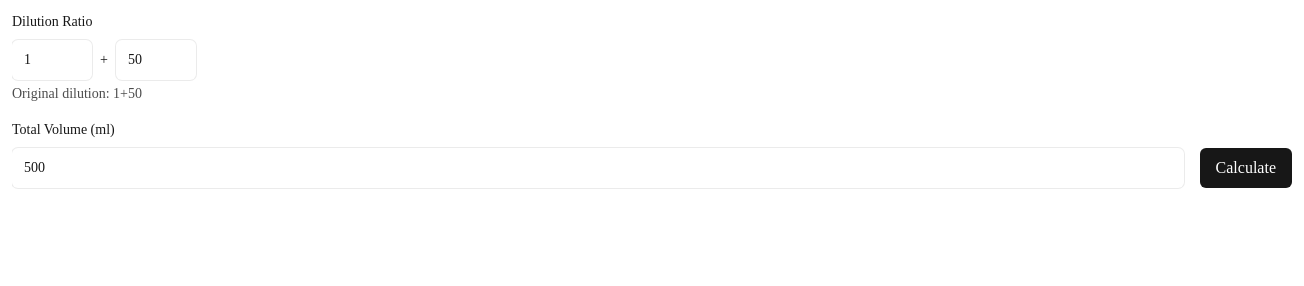
Test: VolumeMixer › clears result on empty ratio input (NaN guard)
Click the button "Calculate": (1246, 168) [1200, 148, 1292, 188]
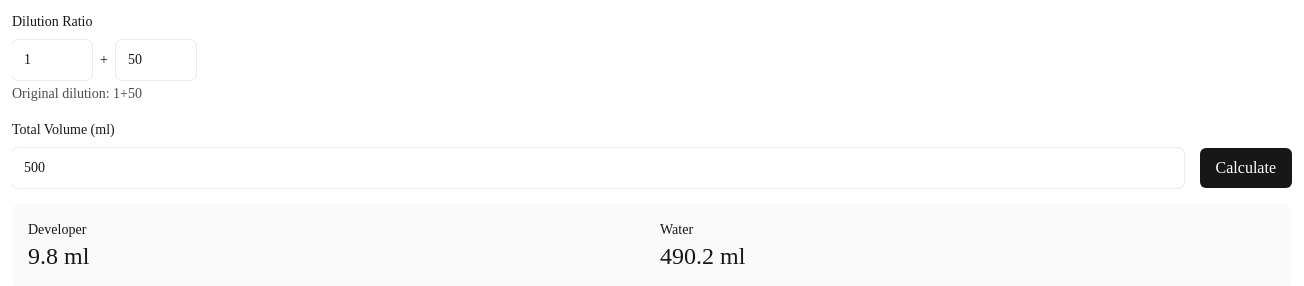
Now the text "9.8 ml" is shown, box [28, 243, 89, 269]
Clear the 1st number field: (52, 60) [12, 40, 92, 80]
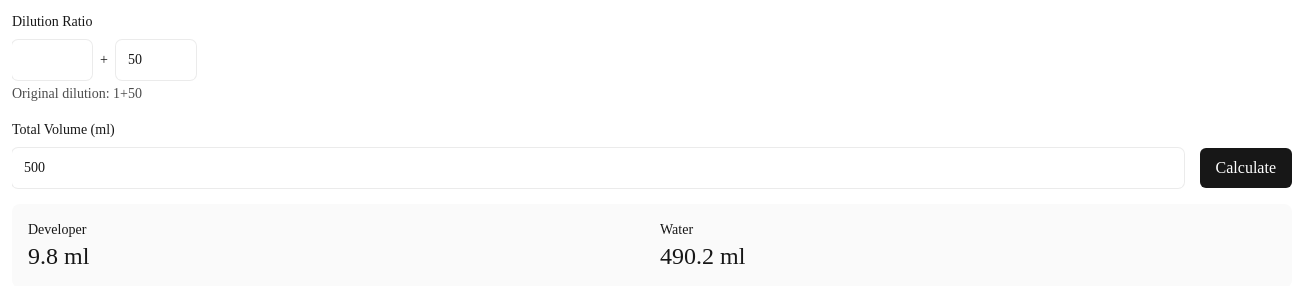
Click the button "Calculate": (1246, 168) [1200, 148, 1292, 188]
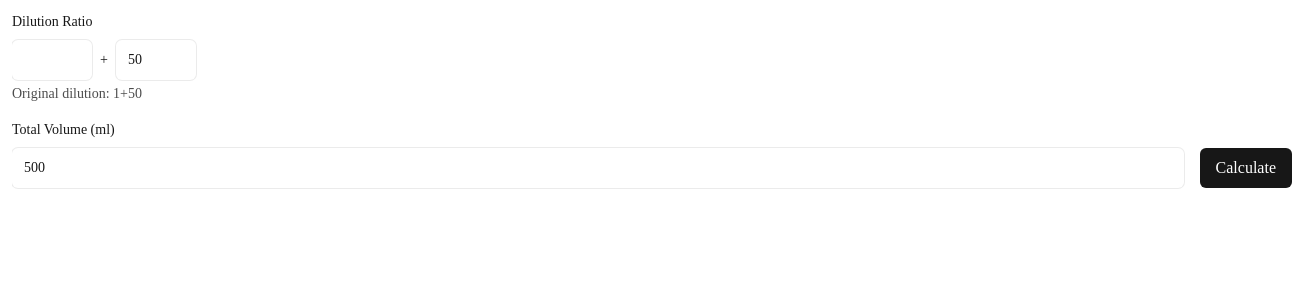
Now the text "9.8 ml" is gone
